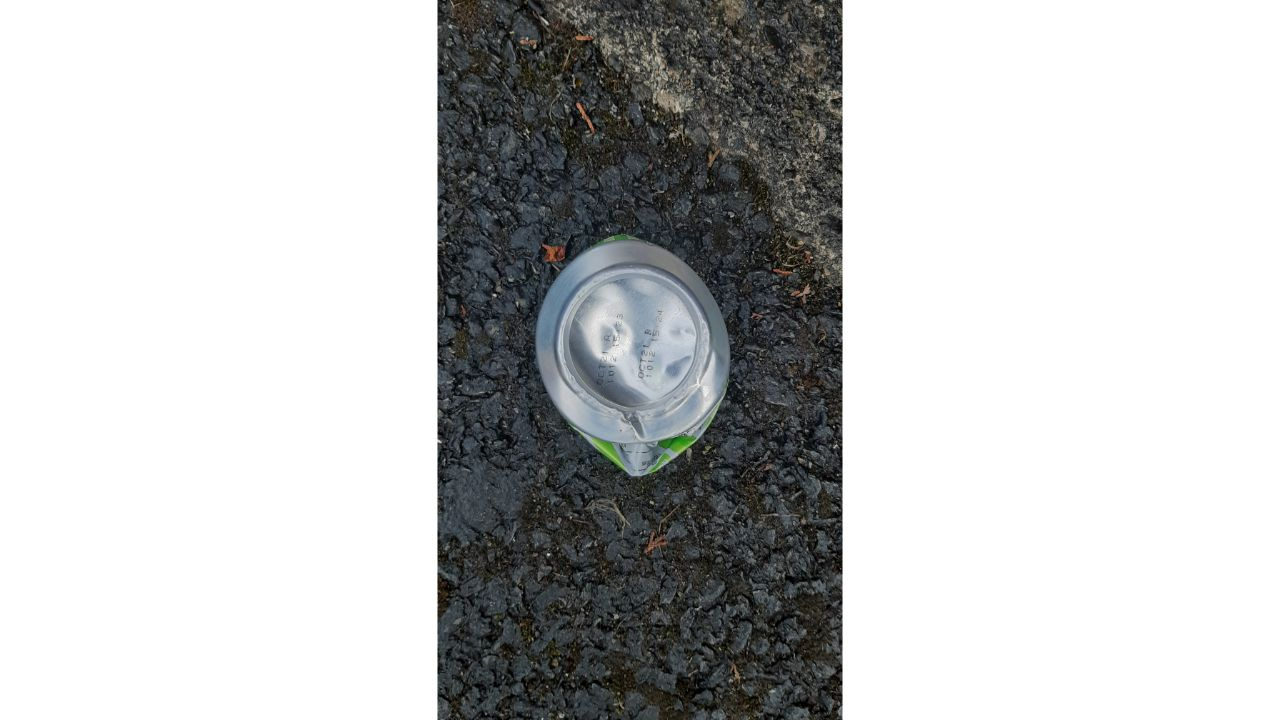Can: (536, 234, 732, 475)
